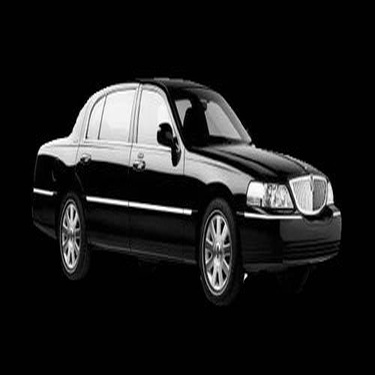car: (24, 63, 355, 316)
